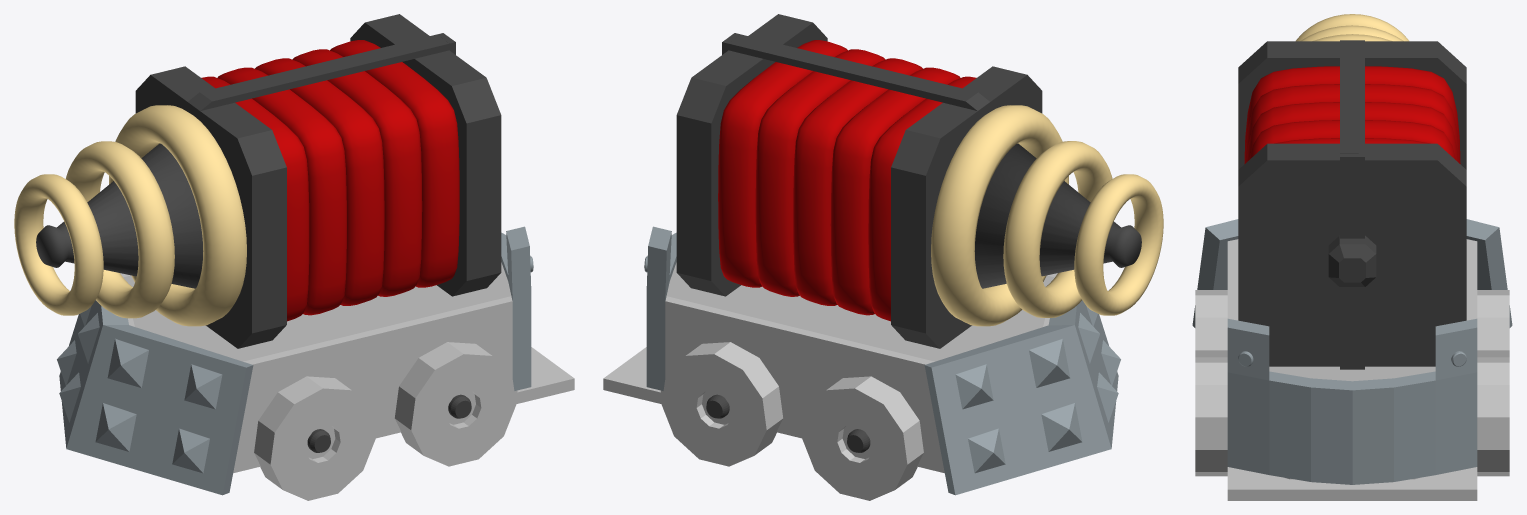
3 views of the same model, side by side, from view 1: azimuth 30°, elevation 25°; view 2: azimuth 150°, elevation 25°; view 3: azimuth 270°, elevation 25° (orthographic).
Parts seen in each view (by area): view 1: Red, Big (×3), Front (×2), Cube, Wheels, Body, Body.001, Cube.002, Cube.001, Cube.003, Screw; view 2: Red, Big (×3), Front (×2), Cube, Wheels, Body, Body.001, Cube.002, Cube.001, Cube.003, Screw; view 3: Cube, Cube.003, Red, Wheels, Body, Cube.004, Front, Cube.001, Big (×3), Cube.005, Body.001, defaultMaterial.
Part boxes in pixels (x1=…): Red: x1=201, y1=40, x2=459, y2=321; Big (×3): x1=14, y1=105, x2=246, y2=326; Front (×2): x1=36, y1=143, x2=253, y2=495; Cube: x1=135, y1=14, x2=501, y2=348; Wheels: x1=254, y1=342, x2=516, y2=500; Body: x1=120, y1=273, x2=574, y2=473; Body.001: x1=123, y1=262, x2=511, y2=361; Cube.002: x1=57, y1=306, x2=222, y2=473; Cube.001: x1=188, y1=34, x2=449, y2=110; Cube.003: x1=501, y1=226, x2=531, y2=390; Screw: x1=307, y1=394, x2=471, y2=452; Red: x1=718, y1=40, x2=976, y2=321; Big (×3): x1=931, y1=105, x2=1163, y2=326; Front (×2): x1=924, y1=143, x2=1141, y2=495; Cube: x1=676, y1=14, x2=1042, y2=348; Wheels: x1=661, y1=342, x2=923, y2=500; Body: x1=603, y1=273, x2=1057, y2=473; Body.001: x1=666, y1=262, x2=1054, y2=361; Cube.002: x1=955, y1=306, x2=1120, y2=473; Cube.001: x1=728, y1=34, x2=989, y2=110; Cube.003: x1=646, y1=226, x2=676, y2=390; Screw: x1=706, y1=394, x2=870, y2=452; Cube: x1=1238, y1=41, x2=1466, y2=366; Cube.003: x1=1227, y1=318, x2=1477, y2=484; Red: x1=1244, y1=66, x2=1460, y2=163; Wheels: x1=1195, y1=290, x2=1509, y2=476; Body: x1=1227, y1=239, x2=1477, y2=500; Cube.004: x1=1340, y1=154, x2=1364, y2=369; Front: x1=1192, y1=219, x2=1512, y2=327; Cube.001: x1=1340, y1=40, x2=1364, y2=153; Big (×3): x1=1296, y1=14, x2=1408, y2=41; Cube.005: x1=1328, y1=235, x2=1376, y2=286; Body.001: x1=1269, y1=366, x2=1435, y2=381; defaultMaterial: x1=1238, y1=351, x2=1466, y2=366.
Bounding box in the file's own units: 2 × 1.44 × 1.21.
